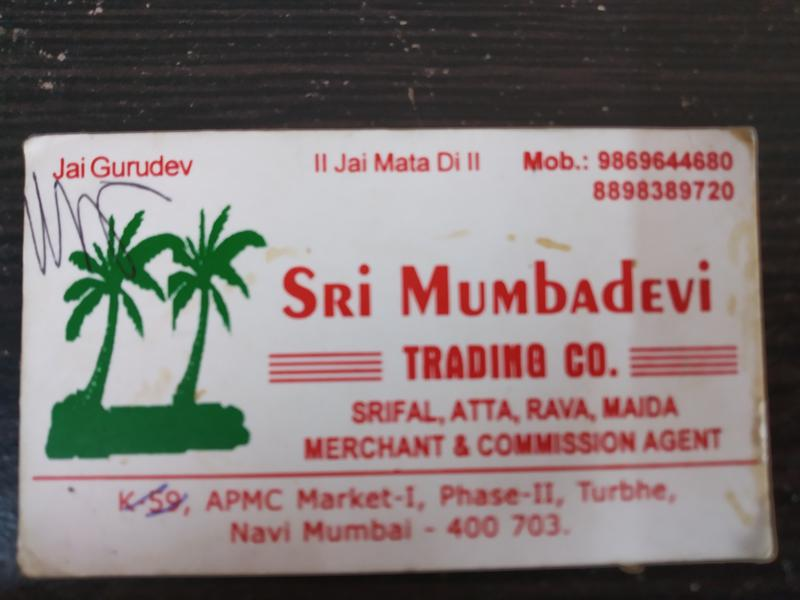card: (25, 129, 781, 580)
